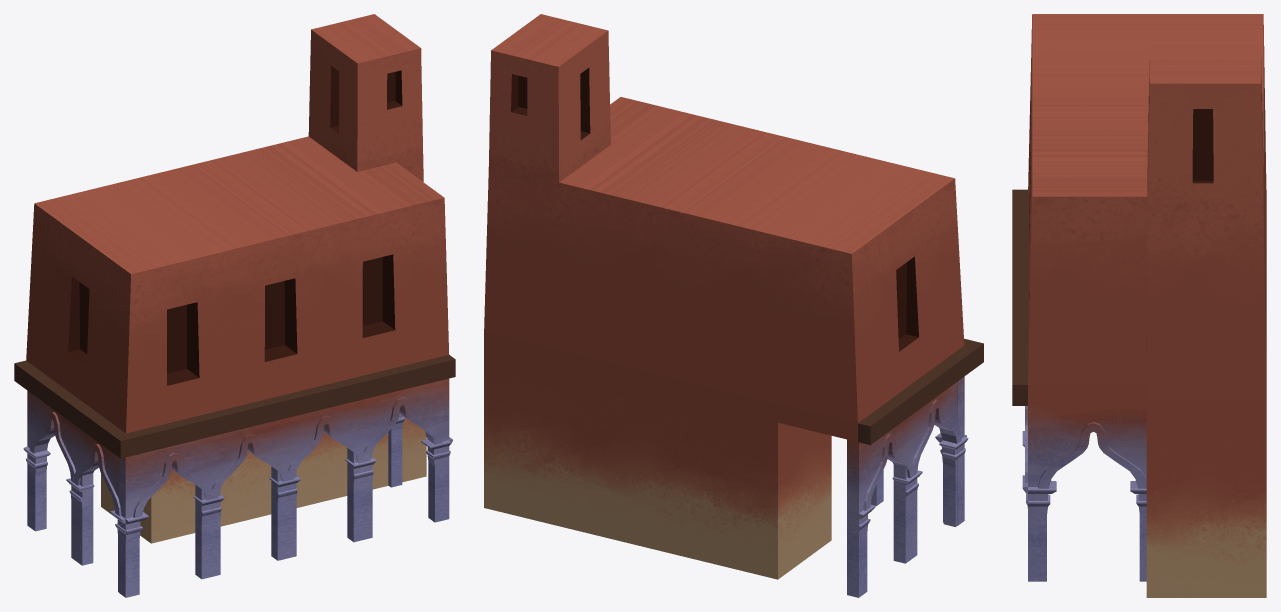
File: BuildingC.fbx
The picture shows the model from 3 angles, left to right: view 1: azimuth 30°, elevation 25°; view 2: azimuth 150°, elevation 25°; view 3: azimuth 270°, elevation 25°; orthographic projection. The views are drawn at different scales.
Parts seen in each view (by area): view 1: building 3; view 2: building 3; view 3: building 3.
Part boxes in pixels (x1,y1,x2,y2): building 3: [14, 14, 455, 597]; building 3: [484, 14, 983, 597]; building 3: [1012, 14, 1266, 597].
Size of the model in its own units: 793 by 896 by 403.
